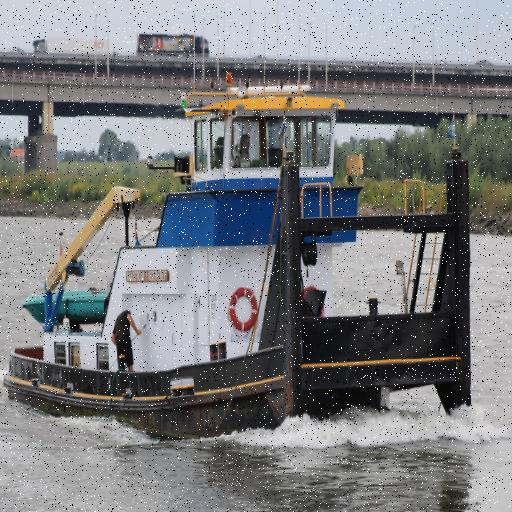tugboat: (1, 83, 482, 443)
